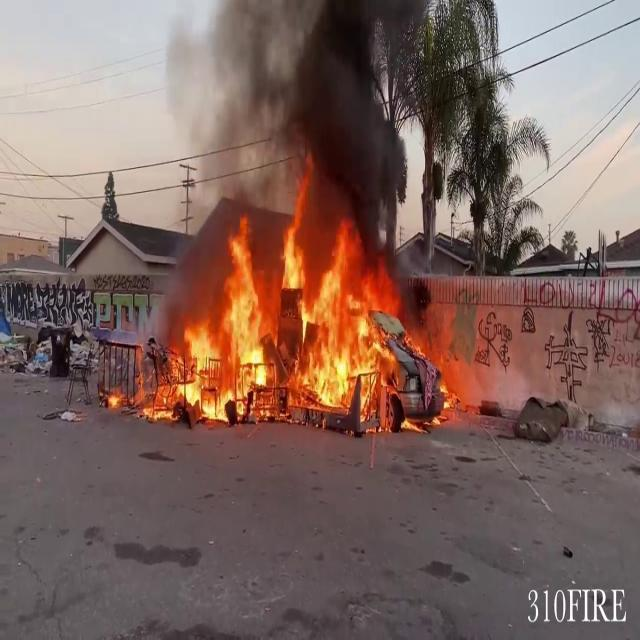Fire: (130, 201, 478, 429)
Smoke: (167, 0, 412, 245)
